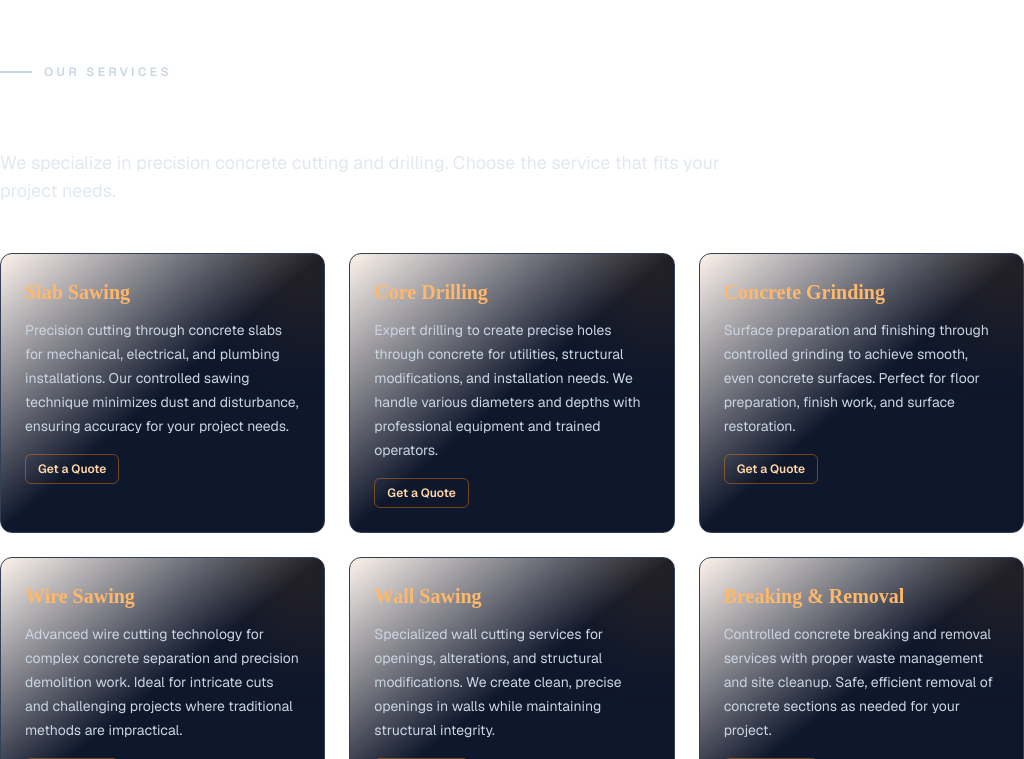
Test: CoringServices › opens the quote modal with the selected subservice
Click the button "Get a Quote" below "Slab Sawing".
click(72, 469)  # box [25,454,119,484]
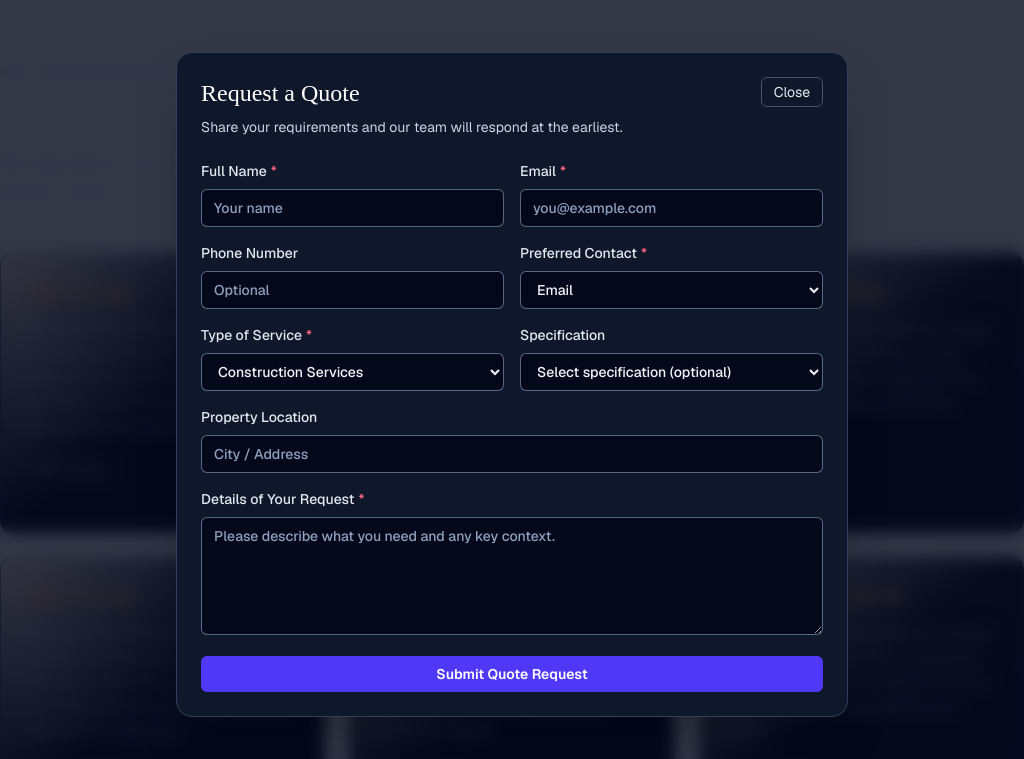
Check: the dialog is shown, box [176,52,848,716]
Check: the heading "Request a Quote" is shown, box [201,80,360,106]
